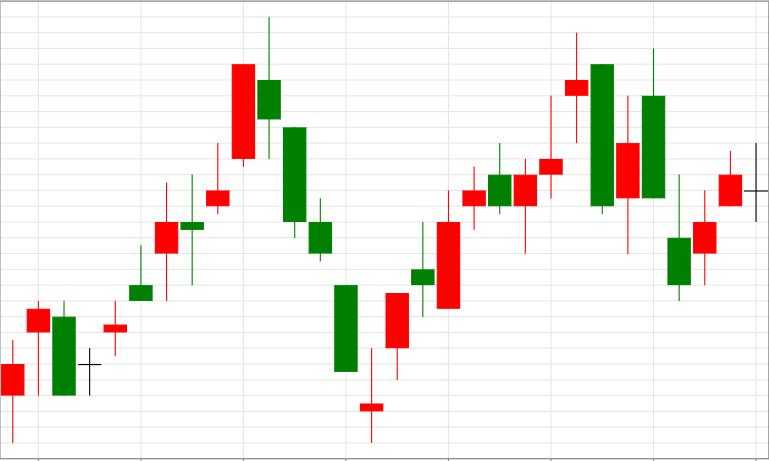morning_star_rise: (258, 16, 409, 444)
